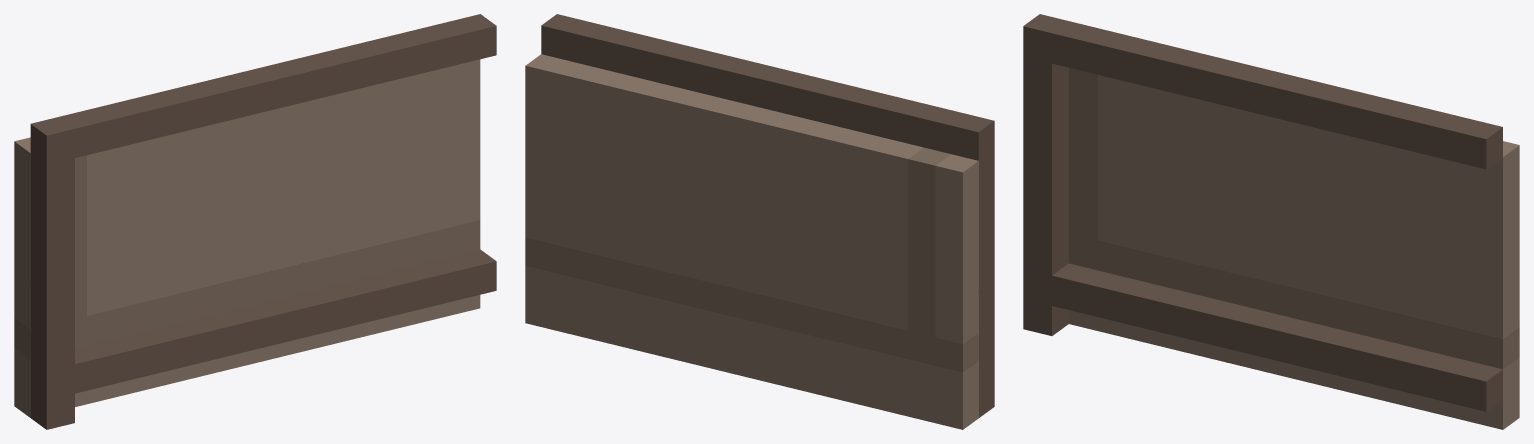
File: wall_sign_left.fbx
The picture shows the model from 3 angles, left to right: view 1: azimuth 30°, elevation 25°; view 2: azimuth 150°, elevation 25°; view 3: azimuth 330°, elevation 25°; orthographic projection. The views are drawn at different scales.
Parts seen in each view (by area): view 1: wall_sign_sx_0; view 2: wall_sign_sx_0; view 3: wall_sign_sx_0.
Boxes of the visible parts, <box> form: wall_sign_sx_0: <box>14,14,496,429</box>; wall_sign_sx_0: <box>525,14,994,429</box>; wall_sign_sx_0: <box>1023,14,1519,429</box>.
Size of the model in its own units: 1600 by 200 by 1000.
